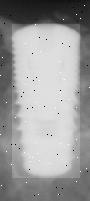Dentis: (5, 22, 80, 179)
